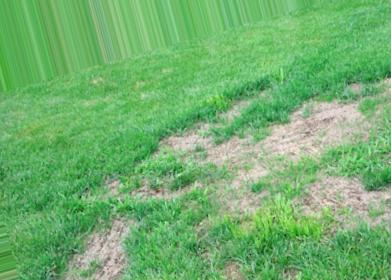patch: (211, 142, 286, 198), (316, 182, 375, 223), (293, 107, 353, 147), (84, 225, 122, 276)
